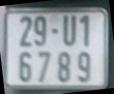-: (51, 28, 59, 34)
1: (80, 15, 91, 48)
2: (19, 16, 32, 47)
6: (18, 50, 32, 83)
7: (36, 51, 53, 83)
8: (56, 51, 71, 83)
9: (33, 14, 48, 46), (78, 52, 92, 84)
U: (62, 15, 78, 46)
